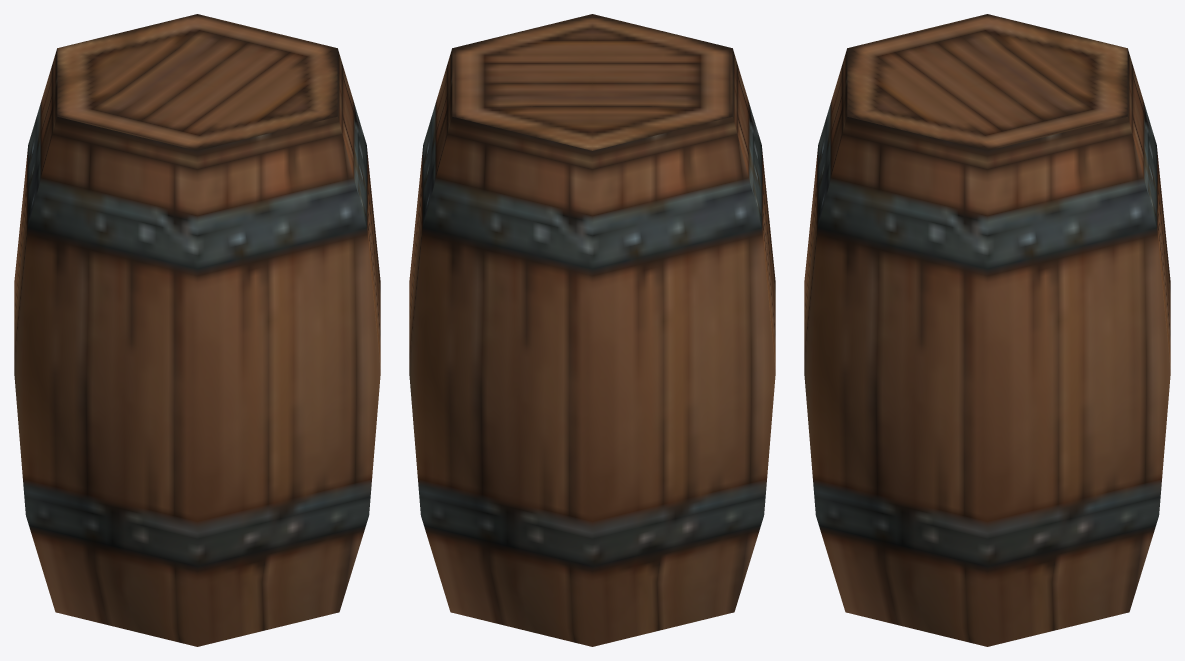
The model's file is 2_YiZhan_ZaWu_Tong_01.FBX.
The picture shows the model from 3 angles, left to right: view 1: azimuth 30°, elevation 25°; view 2: azimuth 150°, elevation 25°; view 3: azimuth 270°, elevation 25°; orthographic projection.
Visible parts, largest first — view 1: 2_YiZhan_ZaWu_Tong_01; view 2: 2_YiZhan_ZaWu_Tong_01; view 3: 2_YiZhan_ZaWu_Tong_01.
Boxes of the visible parts, left/top/right/bottom form: 2_YiZhan_ZaWu_Tong_01: left=14, top=14, right=380, bottom=646; 2_YiZhan_ZaWu_Tong_01: left=409, top=14, right=775, bottom=646; 2_YiZhan_ZaWu_Tong_01: left=804, top=14, right=1170, bottom=646.
Size of the model in its own units: 111 by 144 by 96.46.
